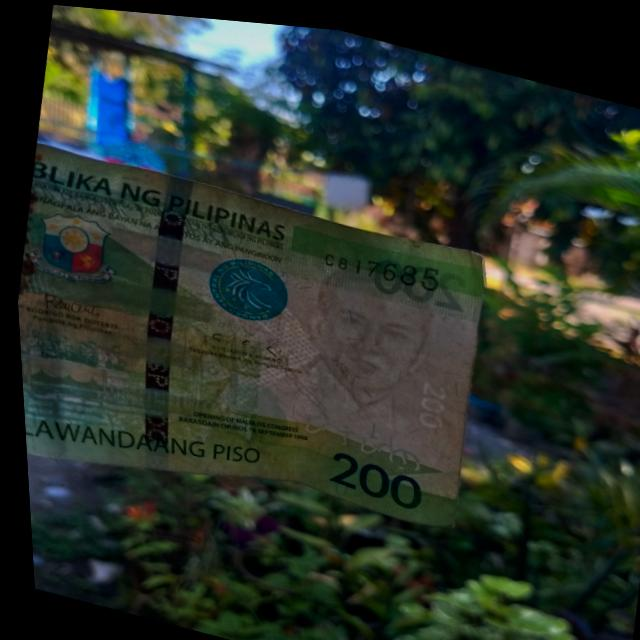security_thread: (107, 162, 213, 472)
see_through_mark: (274, 402, 420, 473)
value_watermark: (400, 361, 456, 435)
watermark: (261, 235, 440, 445)
